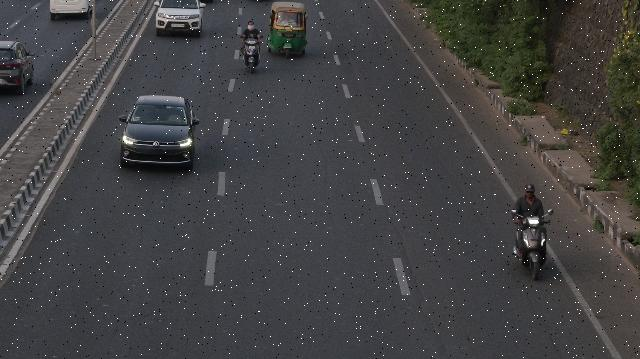Without Helmet: (521, 181, 539, 200), (247, 21, 256, 30)
